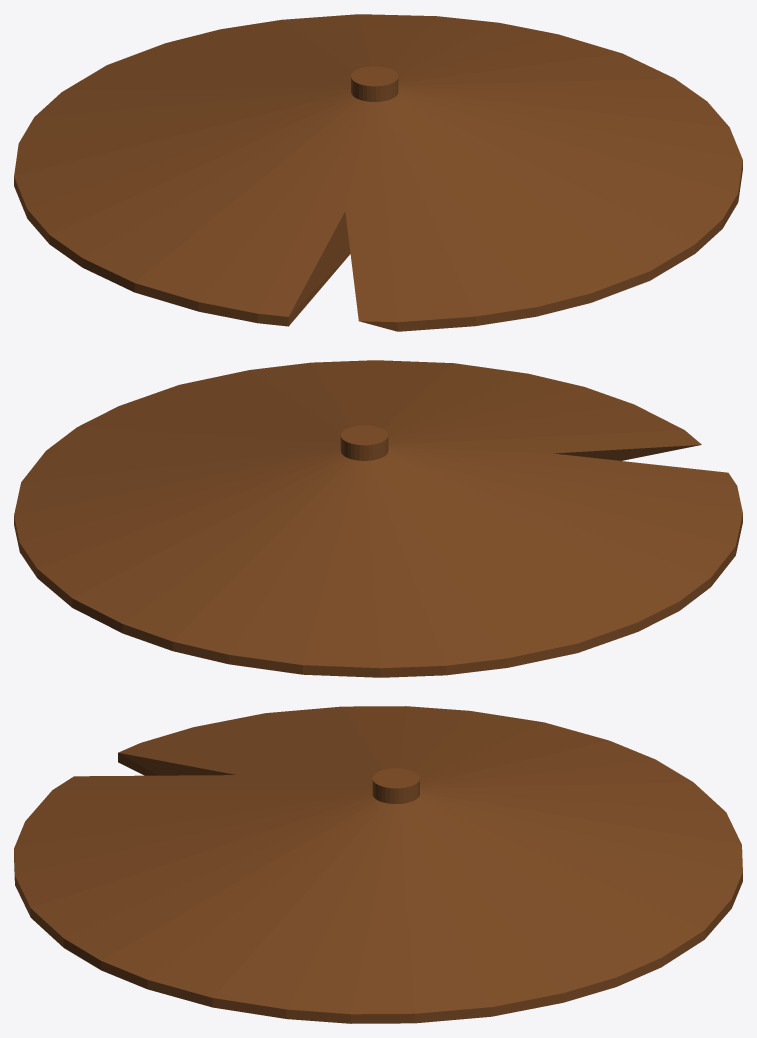
Rendered from Lid_Two_1128.fbx.
The picture shows the model from 3 angles, top to bottom: view 1: azimuth 30°, elevation 25°; view 2: azimuth 150°, elevation 25°; view 3: azimuth 270°, elevation 25°; orthographic projection.
Visible parts, largest first — view 1: Lid_Two; view 2: Lid_Two; view 3: Lid_Two.
Boxes of the visible parts, x1=… form: Lid_Two: x1=14, y1=14, x2=742, y2=331; Lid_Two: x1=14, y1=360, x2=742, y2=677; Lid_Two: x1=14, y1=706, x2=742, y2=1023.
Bounding box in the file's own units: 290 × 41.25 × 290.
